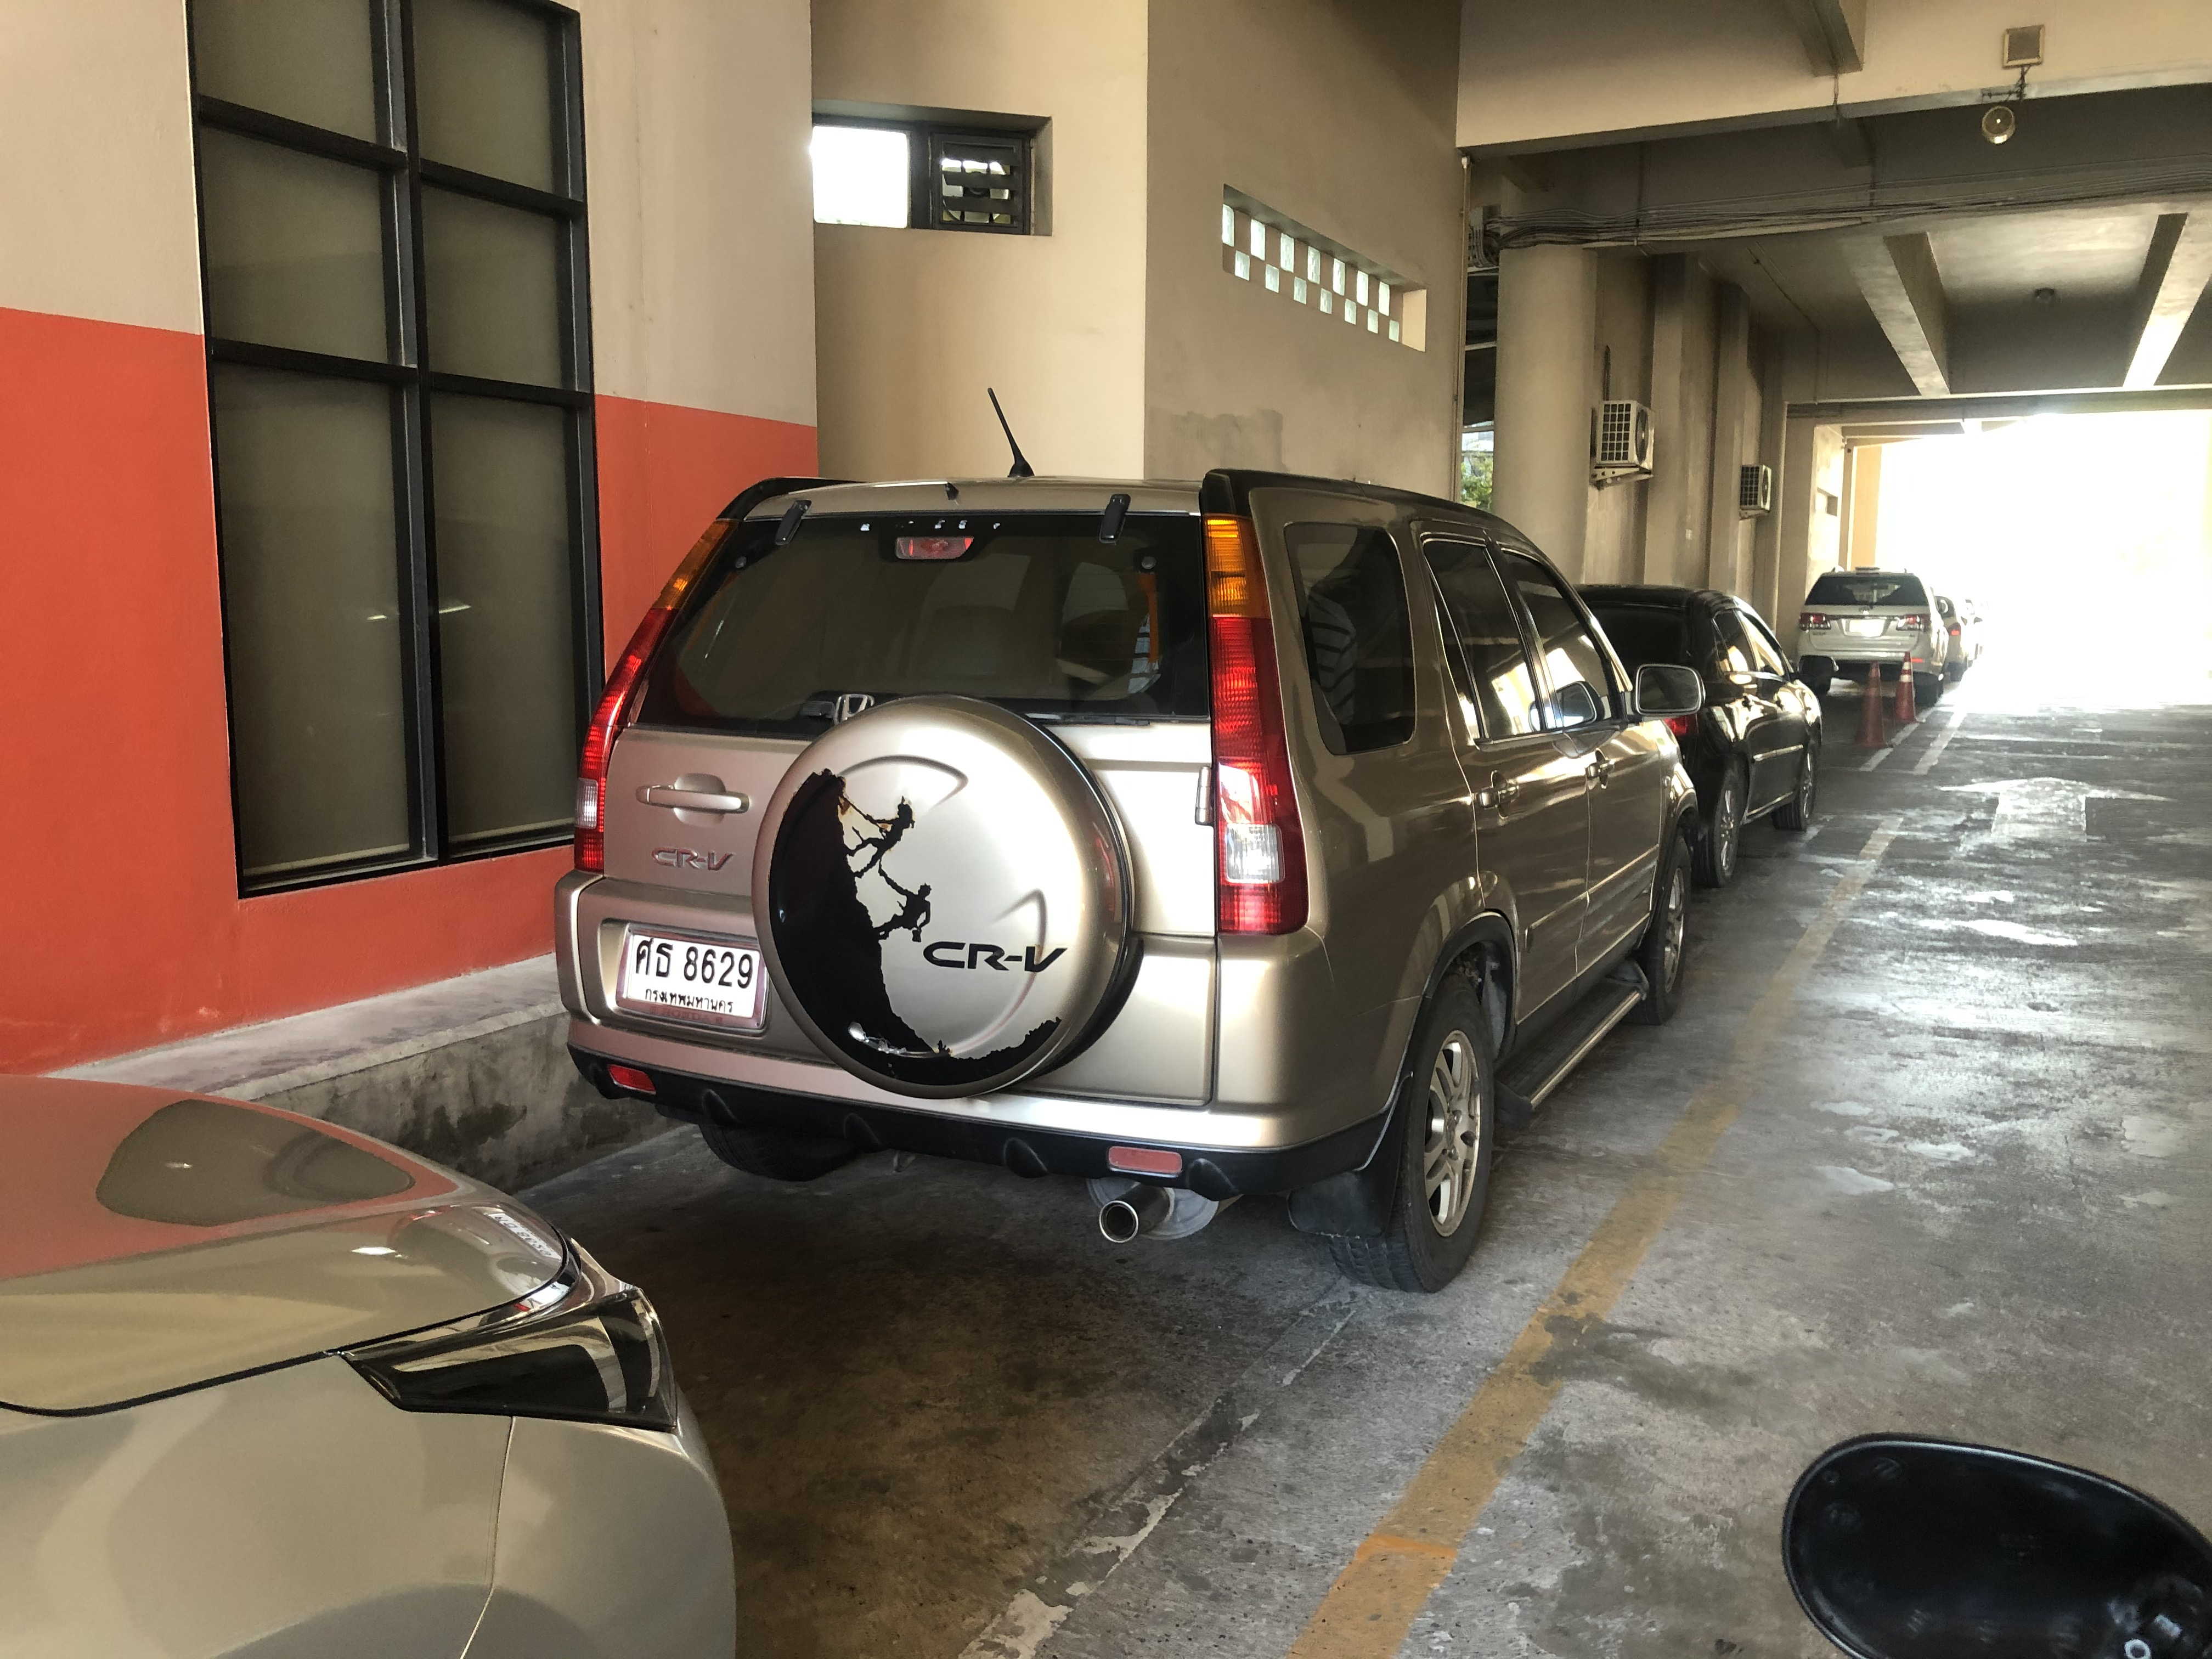in: (622, 932, 759, 1019)
out: (613, 920, 770, 1037)
